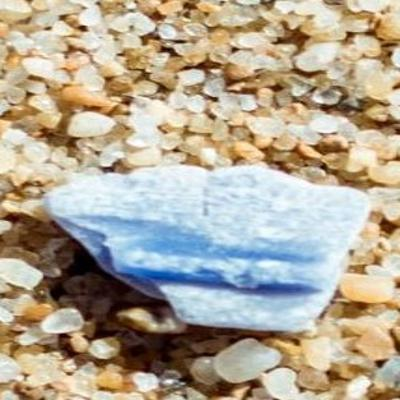plastic: (42, 156, 372, 348)
